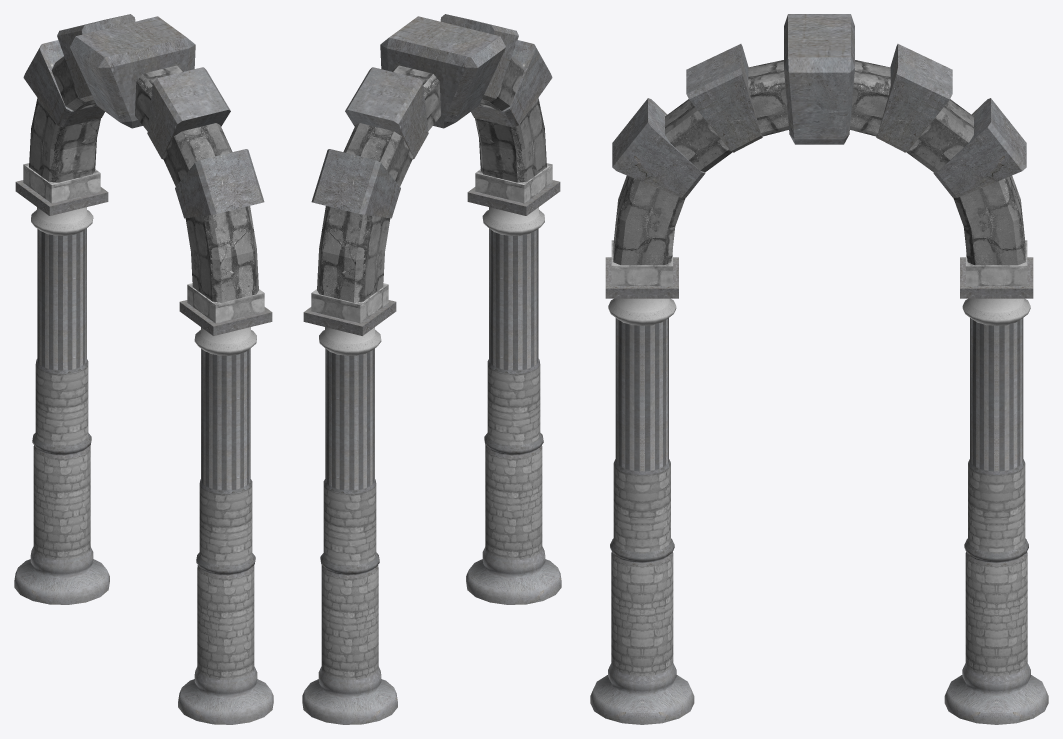
Rendered from Week3Pillar.fbx.
3 views of the same model, side by side, from view 1: azimuth 30°, elevation 25°; view 2: azimuth 150°, elevation 25°; view 3: azimuth 270°, elevation 25° (orthographic). The views are drawn at different scales.
Parts seen in each view (by area): view 1: Pillar0; view 2: Pillar0; view 3: Pillar0.
Boxes of the visible parts, x1,y1,x2,y2 form: Pillar0: (14,14,273,724); Pillar0: (302,14,561,724); Pillar0: (590,14,1048,724).
Size of the model in its own units: 198 by 1137 by 715.
